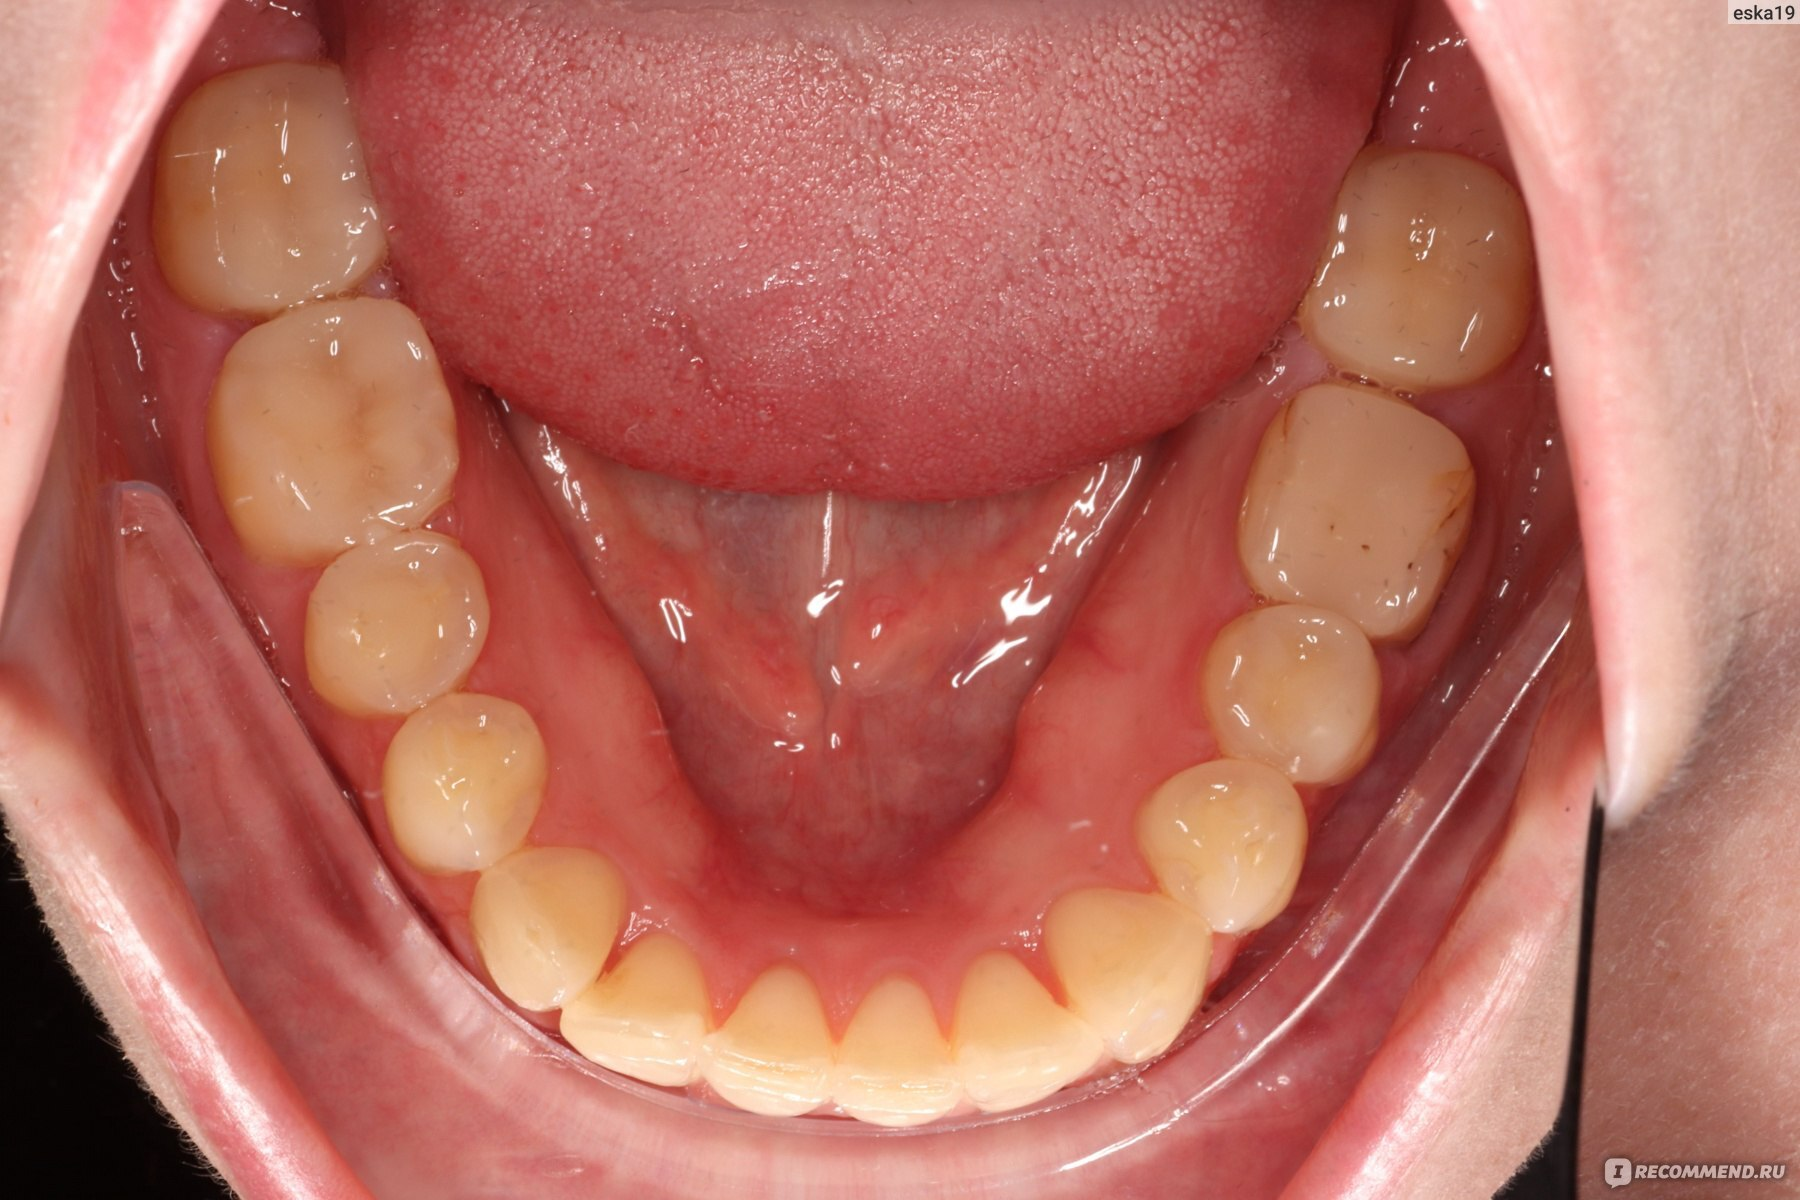LL1BC_healthy: (1133, 757, 1308, 939)
LL1M_decay: (1217, 380, 1483, 654)
LL2BC_healthy: (1192, 607, 1382, 787)
LL2M_healthy: (1295, 153, 1537, 400)
LLCI_healthy: (834, 966, 962, 1130)
LLC_healthy: (1041, 887, 1213, 1079)
LLLI_healthy: (951, 946, 1104, 1120)
LR1BC_healthy: (378, 694, 549, 875)
LR1M_healthy: (208, 300, 461, 568)
LR2BC_healthy: (299, 542, 494, 719)
LR2M_healthy: (151, 58, 374, 319)
LRCI_healthy: (703, 966, 842, 1126)
LRC_healthy: (471, 852, 624, 1021)
LRLI_healthy: (552, 944, 712, 1081)
